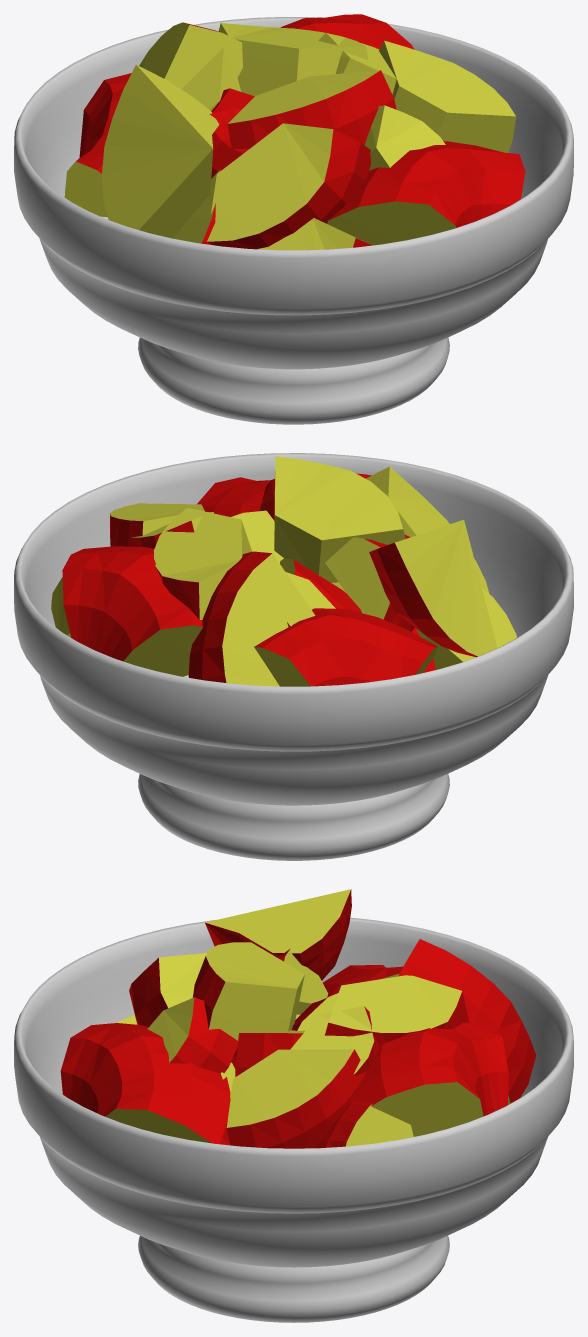
The model's file is BowlContent1.obj.
3 renders of one model, top to bottom at view 1: azimuth 30°, elevation 25°; view 2: azimuth 150°, elevation 25°; view 3: azimuth 270°, elevation 25°, orthographic.
Parts seen in each view (by area): view 1: Cylinder, Cylinder.001, Bouncing_apple.015_Cylinder.014, Bouncing_apple.013_Cylinder.015, Bouncing_apple.018_Cylinder.014, Bouncing_apple.017_Cylinder.005, Bouncing_apple.014_Cylinder.005, Bouncing_apple.007_Cylinder.015, Bouncing_apple.009_Cylinder.014, Bouncing_apple.005_Cylinder.005, Bouncing_apple.019_Cylinder.015, Bouncing_apple.006_Cylinder.014 (+6 smaller); view 2: Cylinder, Cylinder.001, Bouncing_apple.006_Cylinder.014, Bouncing_apple.015_Cylinder.014, Bouncing_apple.014_Cylinder.005, Bouncing_apple.009_Cylinder.014, Bouncing_apple.005_Cylinder.005, Bouncing_apple.007_Cylinder.015, Bouncing_apple.012_Cylinder.014, Bouncing_apple.013_Cylinder.015, Bouncing_apple.017_Cylinder.005, Bouncing_apple.018_Cylinder.014 (+6 smaller); view 3: Cylinder, Cylinder.001, Bouncing_apple.018_Cylinder.014, Bouncing_apple.006_Cylinder.014, Bouncing_apple.017_Cylinder.005, Bouncing_apple.014_Cylinder.005, Bouncing_apple.015_Cylinder.014, Bouncing_apple.007_Cylinder.015, Bouncing_apple.005_Cylinder.005, Bouncing_apple.019_Cylinder.015, Bouncing_apple.013_Cylinder.015, Bouncing_apple.020_Cylinder.005 (+5 smaller).
Part boxes in pixels (box(x1,y1,x2,y2)): Cylinder: box(14, 17, 573, 369); Cylinder.001: box(138, 337, 449, 424); Bouncing_apple.015_Cylinder.014: box(102, 64, 219, 238); Bouncing_apple.013_Cylinder.015: box(207, 123, 370, 249); Bouncing_apple.018_Cylinder.014: box(327, 141, 525, 245); Bouncing_apple.017_Cylinder.005: box(379, 40, 516, 152); Bouncing_apple.014_Cylinder.005: box(227, 70, 396, 149); Bouncing_apple.007_Cylinder.015: box(218, 23, 368, 96); Bouncing_apple.009_Cylinder.014: box(64, 73, 131, 217); Bouncing_apple.005_Cylinder.005: box(139, 22, 242, 89); Bouncing_apple.019_Cylinder.015: box(364, 105, 445, 170); Bouncing_apple.006_Cylinder.014: box(280, 14, 414, 49); Cylinder: box(14, 453, 573, 805); Cylinder.001: box(138, 774, 449, 860); Bouncing_apple.006_Cylinder.014: box(62, 546, 202, 676); Bouncing_apple.015_Cylinder.014: box(369, 519, 497, 657); Bouncing_apple.014_Cylinder.005: box(274, 456, 405, 582); Bouncing_apple.009_Cylinder.014: box(254, 608, 437, 686); Bouncing_apple.005_Cylinder.005: box(188, 551, 315, 686); Bouncing_apple.007_Cylinder.015: box(154, 507, 251, 619); Bouncing_apple.012_Cylinder.014: box(325, 534, 414, 631); Bouncing_apple.013_Cylinder.015: box(366, 466, 489, 593); Bouncing_apple.017_Cylinder.005: box(110, 503, 204, 546); Bouncing_apple.018_Cylinder.014: box(197, 473, 371, 516); Cylinder: box(14, 917, 573, 1267); Cylinder.001: box(138, 1235, 449, 1322); Bouncing_apple.018_Cylinder.014: box(60, 1023, 230, 1144); Bouncing_apple.006_Cylinder.014: box(347, 1021, 508, 1136); Bouncing_apple.017_Cylinder.005: box(226, 1049, 365, 1148); Bouncing_apple.014_Cylinder.005: box(192, 942, 304, 1040); Bouncing_apple.015_Cylinder.014: box(205, 889, 351, 980); Bouncing_apple.007_Cylinder.015: box(325, 975, 469, 1046); Bouncing_apple.005_Cylinder.005: box(398, 939, 536, 1104); Bouncing_apple.019_Cylinder.015: box(147, 997, 237, 1073); Bouncing_apple.013_Cylinder.015: box(129, 953, 206, 1026); Bouncing_apple.020_Cylinder.005: box(315, 1101, 413, 1148).
Bounding box in the file's own units: 1.24 × 0.7543 × 1.24.
